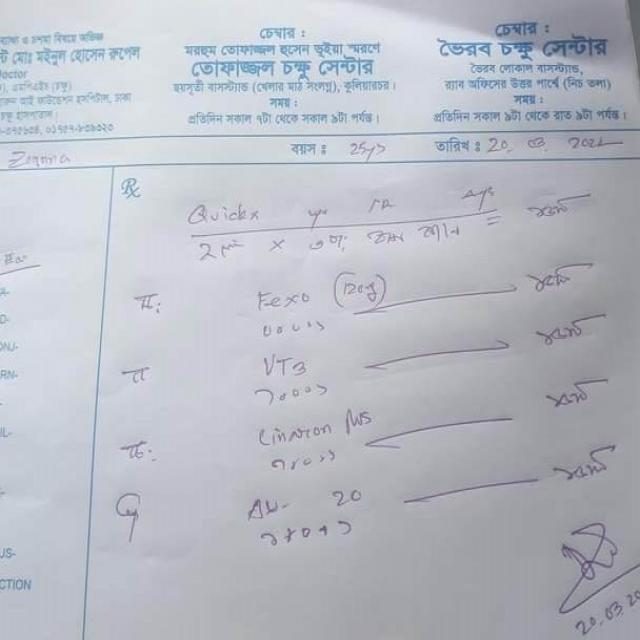AU-20: (243, 490, 292, 523)
Cinaron Plus: (248, 405, 375, 448)
Fexo: (243, 283, 317, 314)
VT-3: (260, 347, 315, 382)
